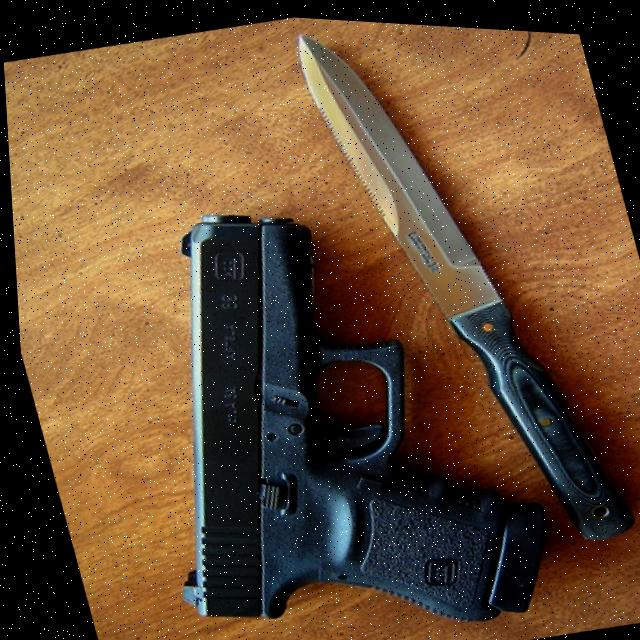knife: (294, 14, 638, 568)
pistol: (78, 152, 567, 640)
